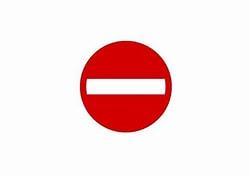Stop: (80, 41, 171, 131)
